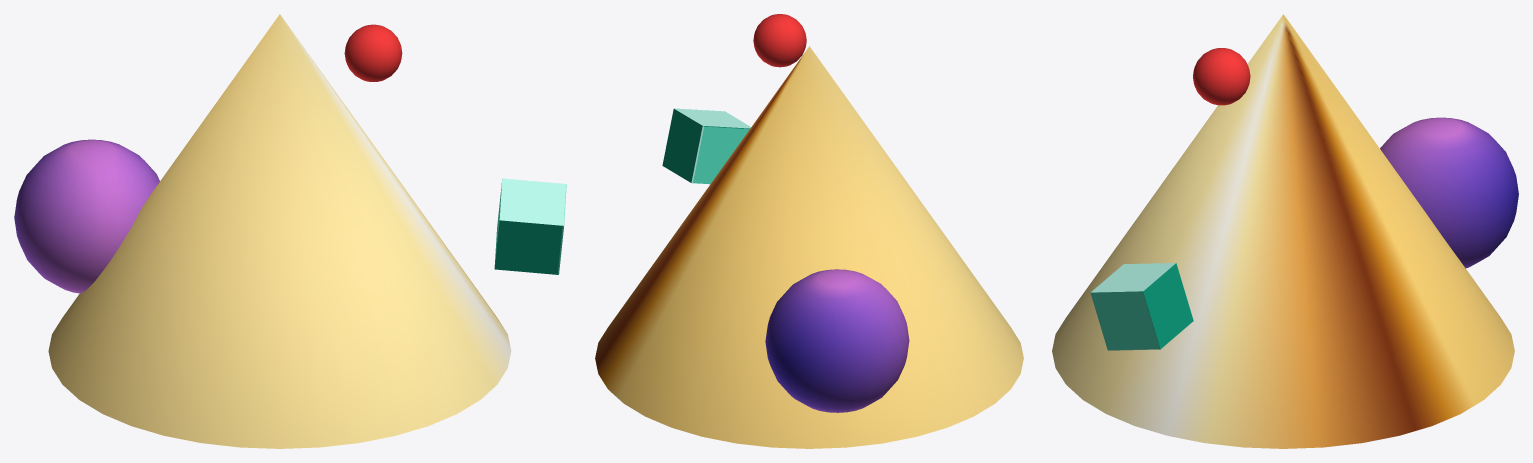
3 renders of one model, left to right at view 1: azimuth 30°, elevation 25°; view 2: azimuth 150°, elevation 25°; view 3: azimuth 270°, elevation 25°, orthographic. The views are drawn at different scales.
Parts seen in each view (by area): view 1: 圆锥, 球体, 立方体, 球体.1; view 2: 圆锥, 球体, 立方体, 球体.1; view 3: 圆锥, 球体, 立方体, 球体.1.
Boxes of the visible parts, <box> form: 圆锥: <box>48,14,511,448</box>; 球体: <box>14,139,159,293</box>; 立方体: <box>494,178,566,274</box>; 球体.1: <box>344,24,402,81</box>; 圆锥: <box>595,46,1023,448</box>; 球体: <box>765,269,909,412</box>; 立方体: <box>662,108,750,184</box>; 球体.1: <box>753,14,806,67</box>; 圆锥: <box>1052,14,1514,448</box>; 球体: <box>1380,117,1518,268</box>; 立方体: <box>1090,263,1193,350</box>; 球体.1: <box>1193,48,1250,105</box>.
Bounding box in the file's own units: 210 × 161 × 202.
4 materials, 3 textured.
